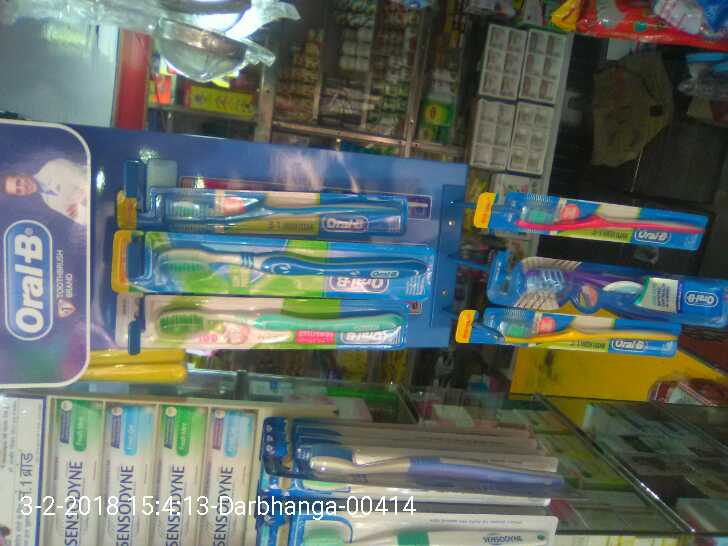oralb: (116, 229, 432, 299), (497, 254, 728, 324), (113, 292, 405, 346), (126, 189, 409, 241), (478, 191, 695, 254), (465, 308, 682, 357)
